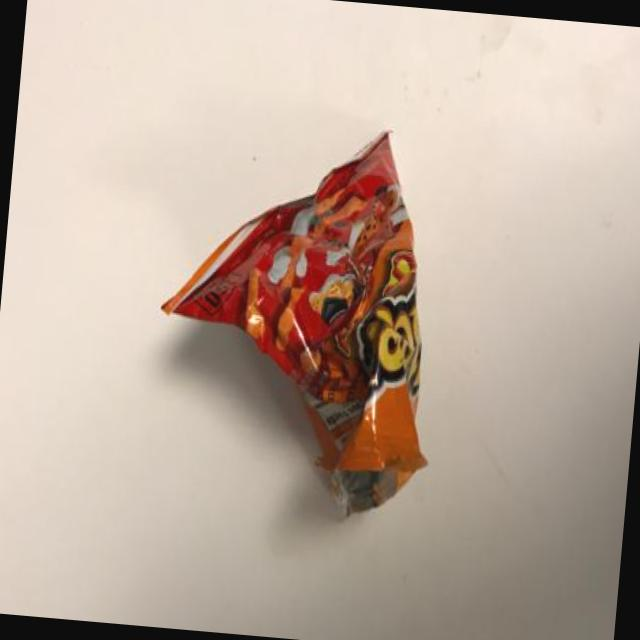giay_goi: (162, 132, 427, 514)
